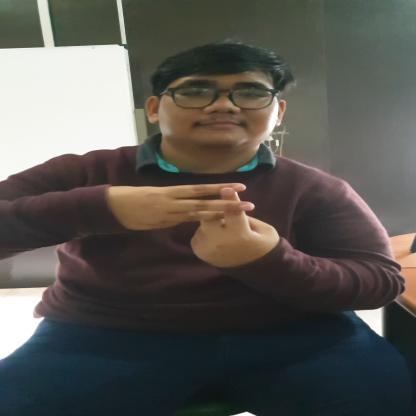B: (127, 178, 272, 266)
